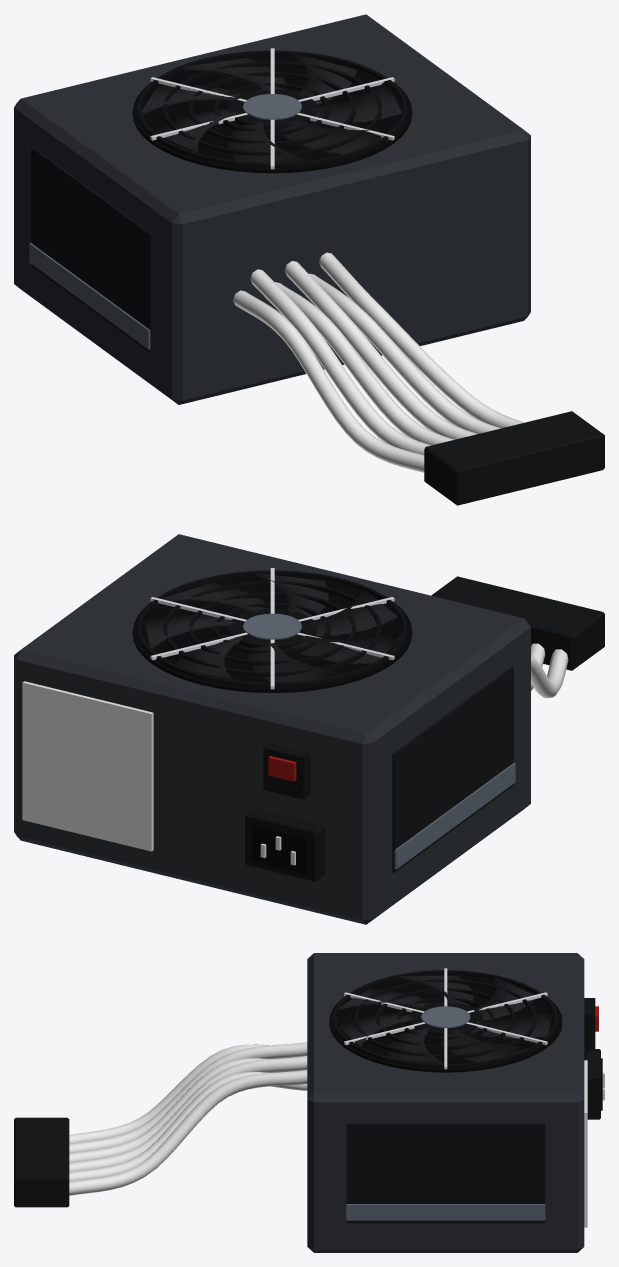
File: hw_psu_1000w_tit.glb
The picture shows the model from 3 angles, top to bottom: view 1: azimuth 30°, elevation 25°; view 2: azimuth 150°, elevation 25°; view 3: azimuth 270°, elevation 25°; orthographic projection. The views are drawn at different scales.
Parts seen in each view (by area): view 1: Body, Rotor_Y_0; view 2: Body, Rotor_Y_0; view 3: Body, Rotor_Y_0.
Part boxes in pixels (box(x1,y1,x2,y2)): Body: box(14, 14, 604, 505); Rotor_Y_0: box(142, 53, 401, 162); Body: box(14, 534, 604, 924); Rotor_Y_0: box(145, 572, 402, 682); Body: box(14, 953, 604, 1252); Rotor_Y_0: box(338, 975, 552, 1063).
Size of the model in its own units: 0.1278 by 0.0662 by 0.2135.
